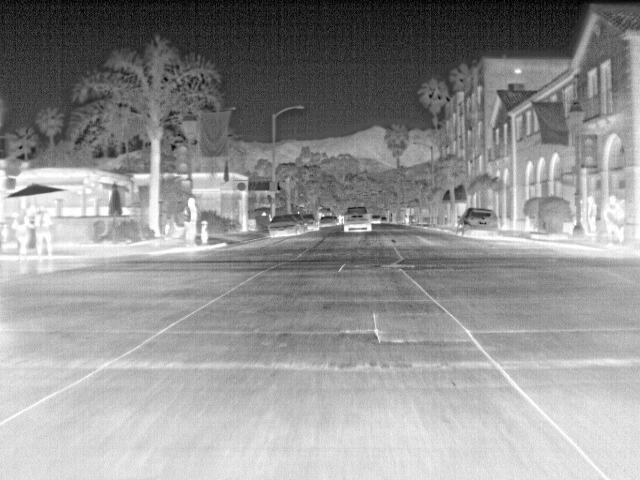car: (460, 206, 503, 239), (269, 213, 299, 237), (342, 214, 372, 234), (301, 212, 319, 232), (290, 212, 305, 233), (318, 214, 338, 227)
person: (180, 195, 202, 247), (33, 206, 54, 255), (13, 212, 34, 254), (606, 194, 622, 237), (584, 195, 600, 235)
